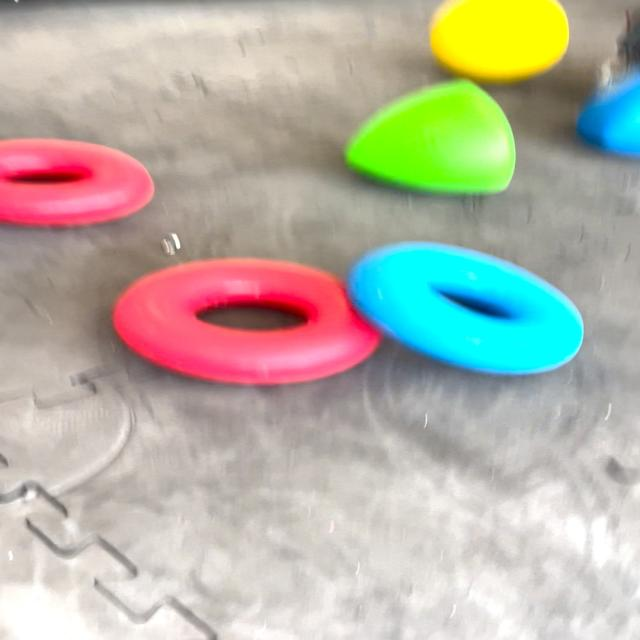Blue-Ring: (349, 242, 582, 374)
Red-Ring: (113, 259, 380, 385), (0, 139, 153, 226), (13, 195, 18, 198)
